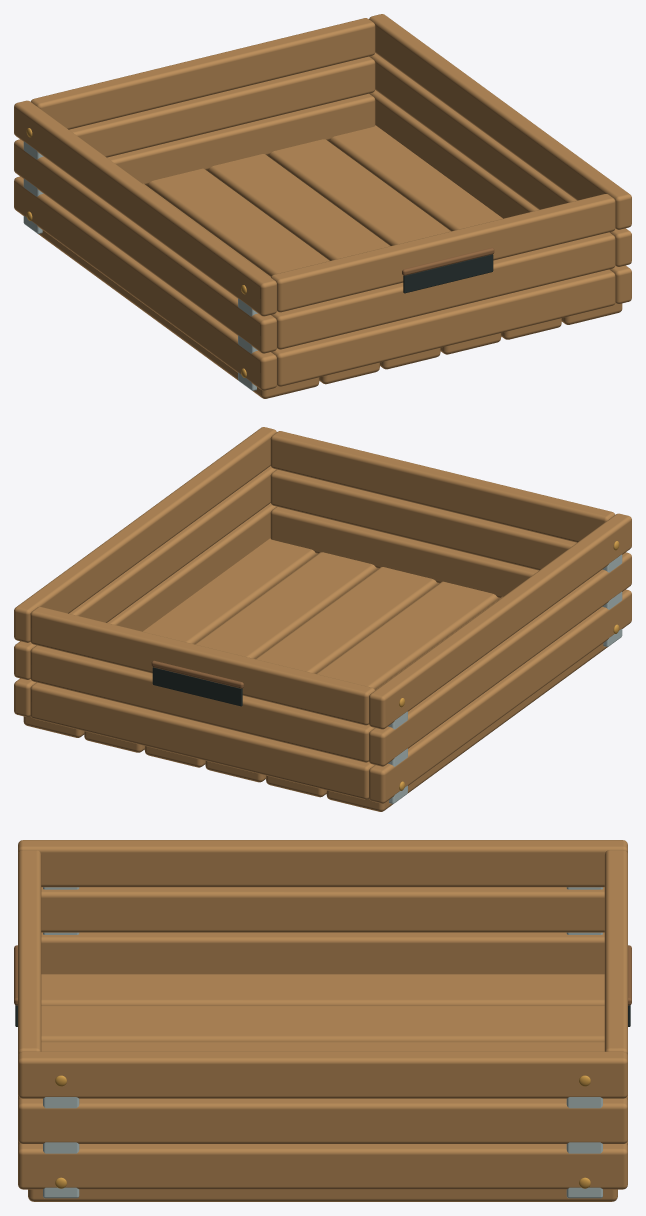
File: wood-crate-light.glb
The picture shows the model from 3 angles, top to bottom: view 1: azimuth 30°, elevation 25°; view 2: azimuth 150°, elevation 25°; view 3: azimuth 270°, elevation 25°; orthographic projection. The views are drawn at different scales.
Parts seen in each view (by area): view 1: wood, dark, steel, edge; view 2: wood, dark, steel, edge; view 3: wood, steel.
Boxes of the visible parts, bbox=[...] form: wood: bbox=[14, 14, 631, 398]; dark: bbox=[403, 254, 493, 293]; steel: bbox=[23, 141, 257, 390]; edge: bbox=[402, 247, 494, 275]; wood: bbox=[14, 427, 631, 811]; dark: bbox=[152, 667, 242, 706]; steel: bbox=[388, 554, 622, 803]; edge: bbox=[151, 660, 243, 688]; wood: bbox=[18, 840, 627, 1201]; steel: bbox=[43, 887, 602, 1198].
Size of the model in its own units: 1.6 by 0.4895 by 1.86.
